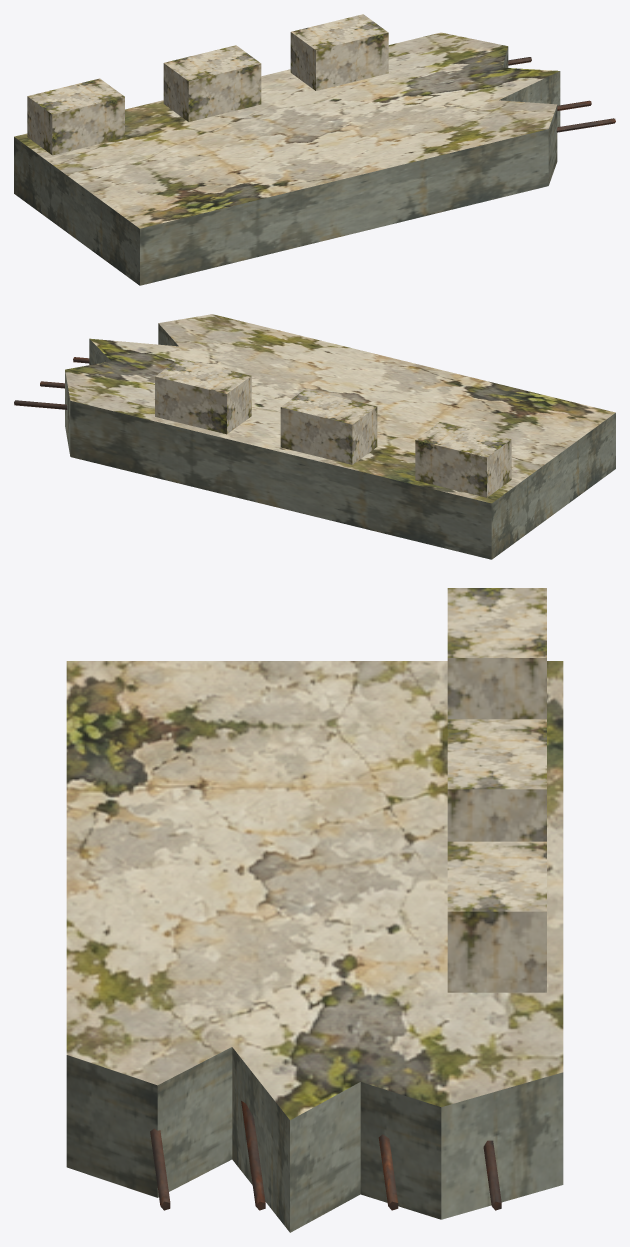
File: Bridge_Deck_Broken.glb
3 views of the same model, one above another, from view 1: azimuth 30°, elevation 25°; view 2: azimuth 150°, elevation 25°; view 3: azimuth 270°, elevation 25° (orthographic). The views are drawn at different scales.
Parts seen in each view (by area): view 1: Bridge_Deck_Broken; view 2: Bridge_Deck_Broken; view 3: Bridge_Deck_Broken.
Part boxes in pixels (bbox=[...]): Bridge_Deck_Broken: bbox=[14, 14, 615, 285]; Bridge_Deck_Broken: bbox=[14, 314, 615, 559]; Bridge_Deck_Broken: bbox=[66, 588, 563, 1232].
Size of the model in its own units: 5.5 by 1.04 by 2.4.
1 material, 1 textured.
